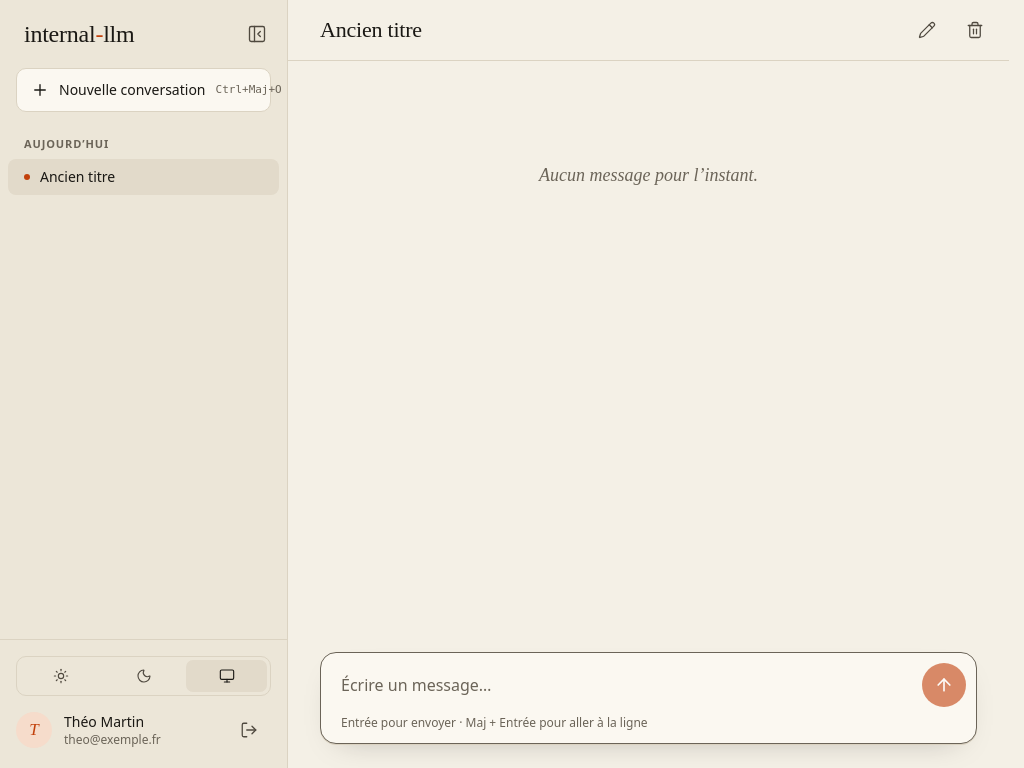
Test: renaming a conversation › edits the title in place and saves it with Enter
Expected: the heading "Ancien titre" is shown, [320,17,422,42]
Click the button named "Renommer la conversation". click: [927, 30]
box: [905,8,949,52]
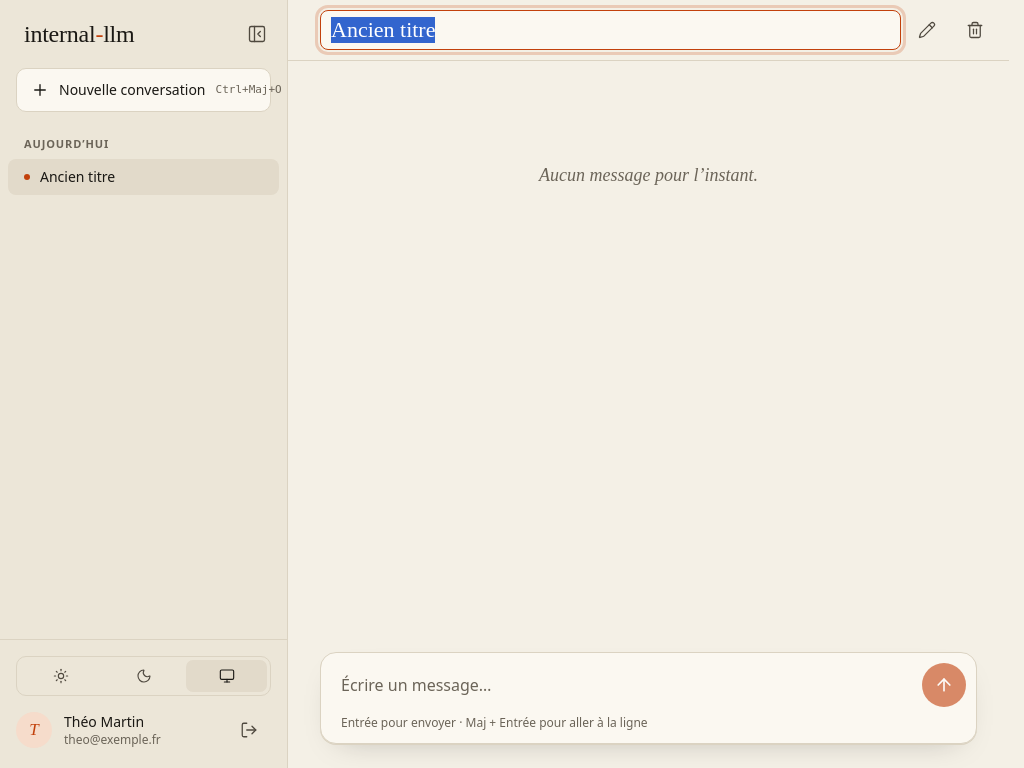
Expected: the field named "Titre de la conversation" holds "Ancien titre"
Replace the text in the field named "Titre de la conversation" with "  Nouveau titre  ". click: [610, 30]
box: [320,10,901,50]
Then press Enter
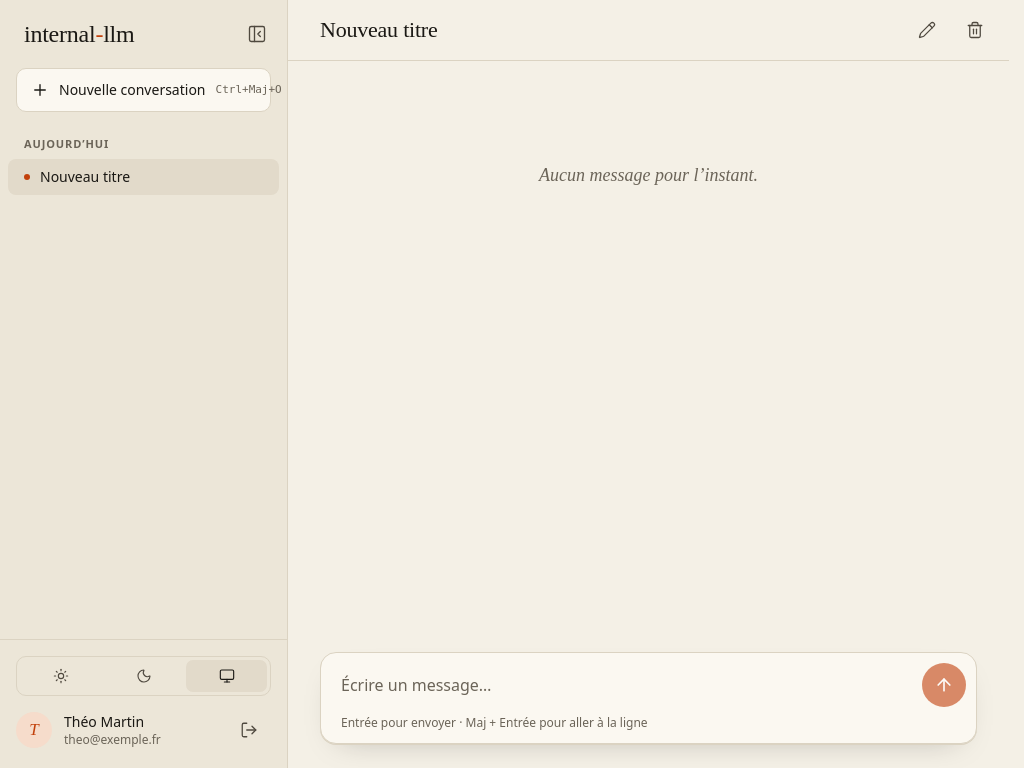
Expected: the heading "Nouveau titre" is shown, [320,17,438,42]
Expected: the text "Nouveau titre" is shown, [40,166,130,186]
